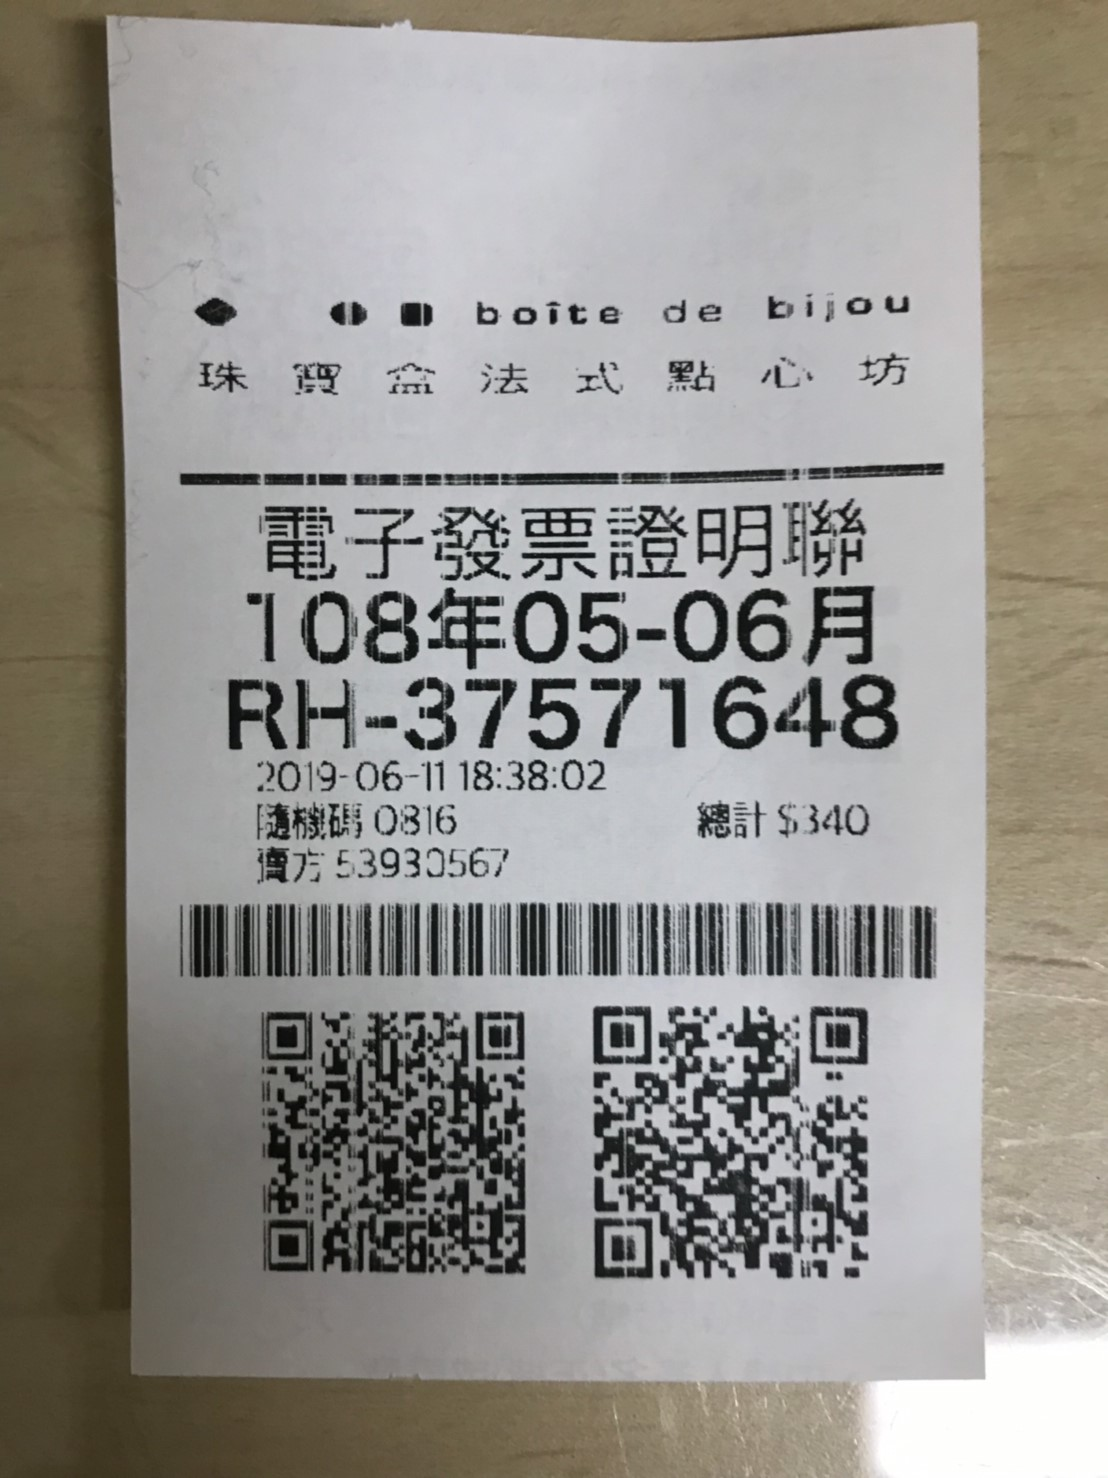Date_New: (242, 585, 876, 667)
Number_New: (404, 672, 905, 754)
